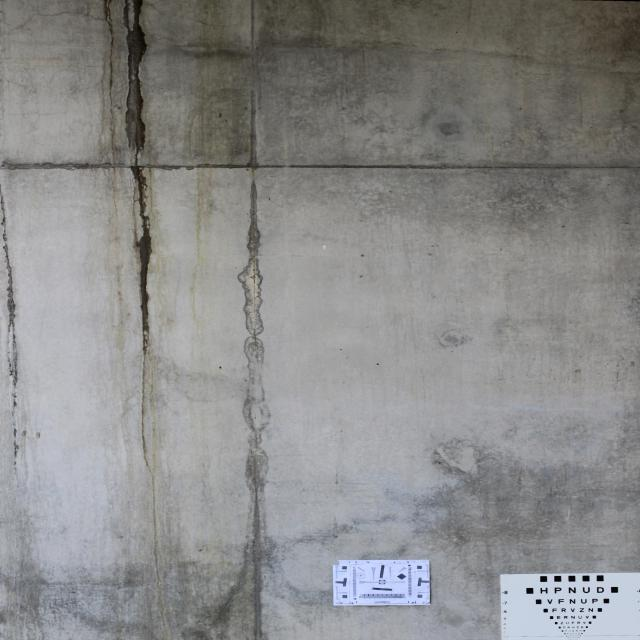diagonal crack: (141, 0, 237, 45)
horizontal crack: (0, 0, 119, 119)
vertical crack: (122, 0, 154, 474), (0, 168, 41, 475)
